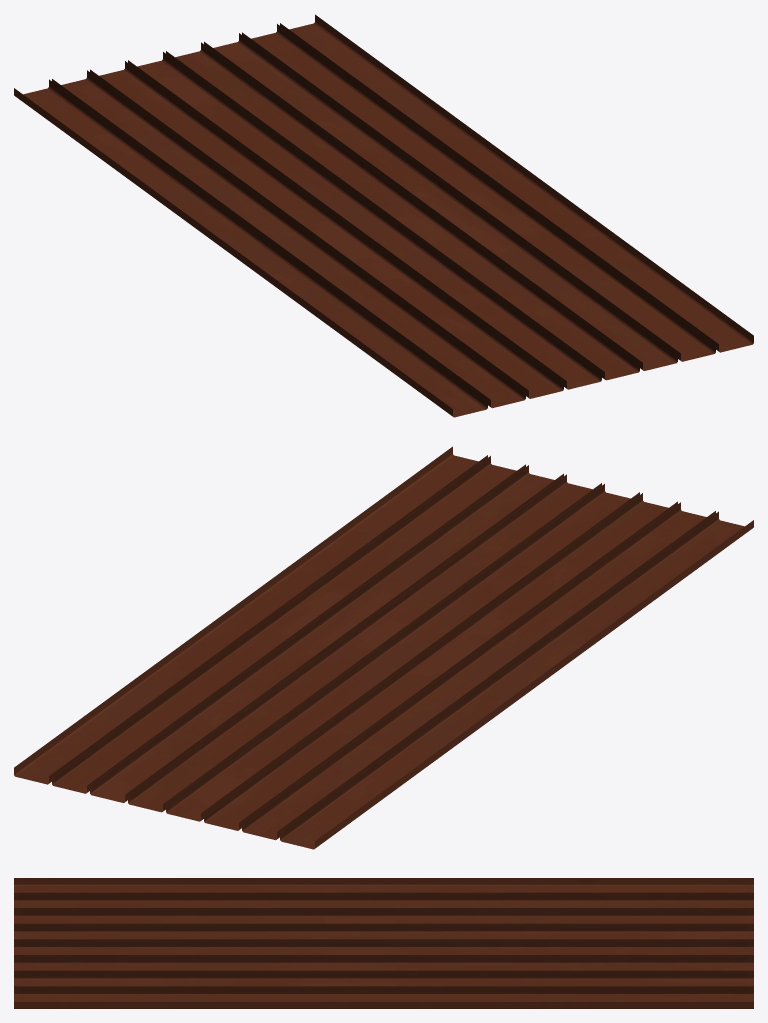
The model's file is atrium_soffit_panel.glb.
3 views of the same model, one above another, from view 1: azimuth 30°, elevation 25°; view 2: azimuth 150°, elevation 25°; view 3: azimuth 270°, elevation 25° (orthographic). The views are drawn at different scales.
Visible parts, largest first — view 1: atrium_soffit_panel; view 2: atrium_soffit_panel; view 3: atrium_soffit_panel.
Boxes of the visible parts, <box> form: atrium_soffit_panel: <box>14,14,753,417</box>; atrium_soffit_panel: <box>14,446,753,849</box>; atrium_soffit_panel: <box>14,878,753,1008</box>.
Size of the model in its own units: 0.7921 by 0.022 by 2.
Materials: 1 (1 with a texture image).
